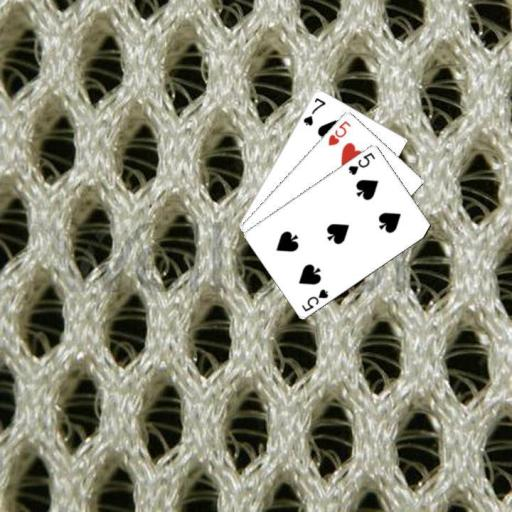5H: (325, 118, 353, 148)
5S: (299, 285, 330, 313), (345, 149, 377, 176)
7S: (300, 94, 327, 127)
